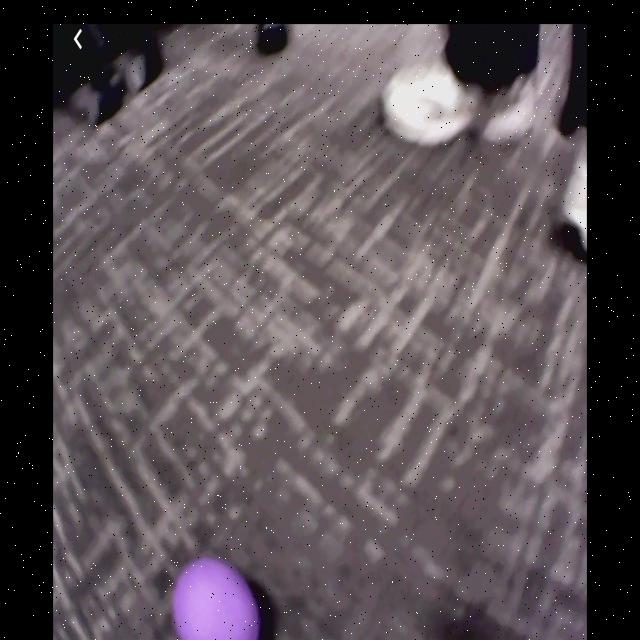ball: (173, 559, 264, 640)
